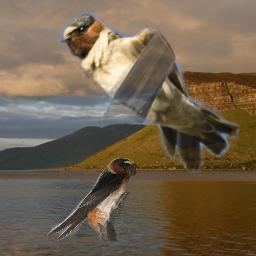Swallow: (58, 12, 240, 173), (47, 158, 137, 241)
